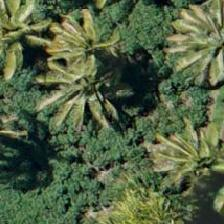coconut_tree: (38, 36, 128, 126), (156, 118, 223, 208), (173, 0, 223, 87), (0, 0, 53, 75)
